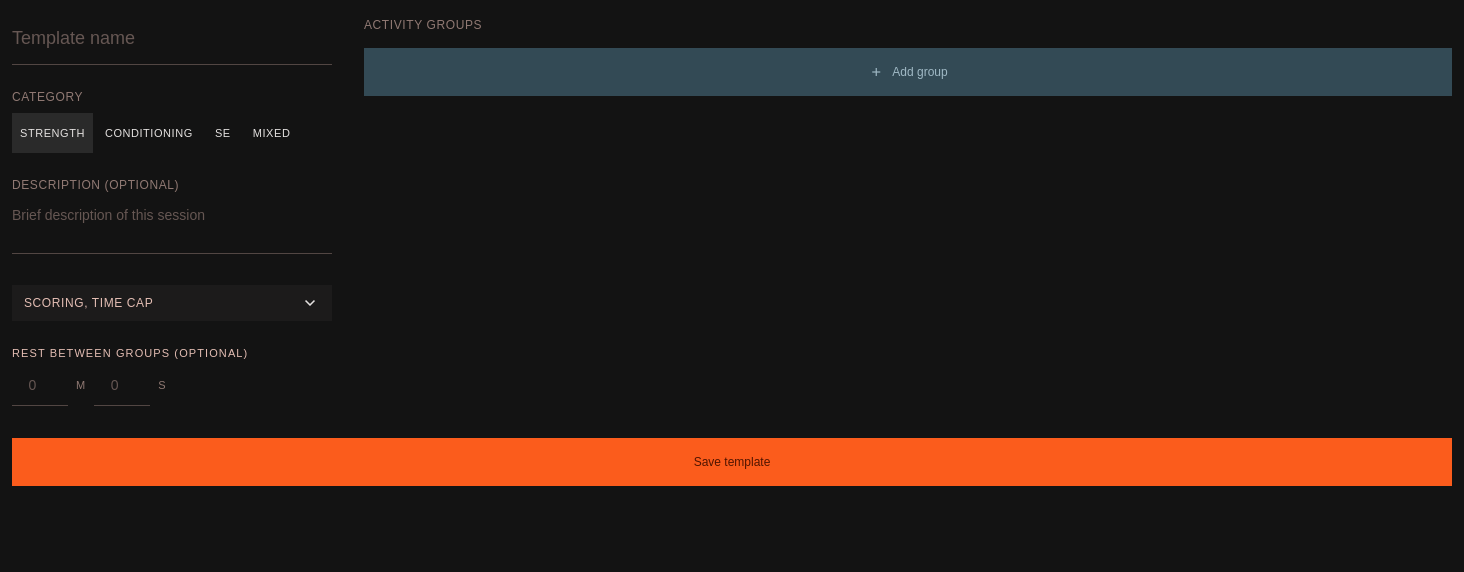
SessionTemplateForm › shows validation error when saving with empty name
Click the button "Save template": point(732, 462) [12,438,1452,486]
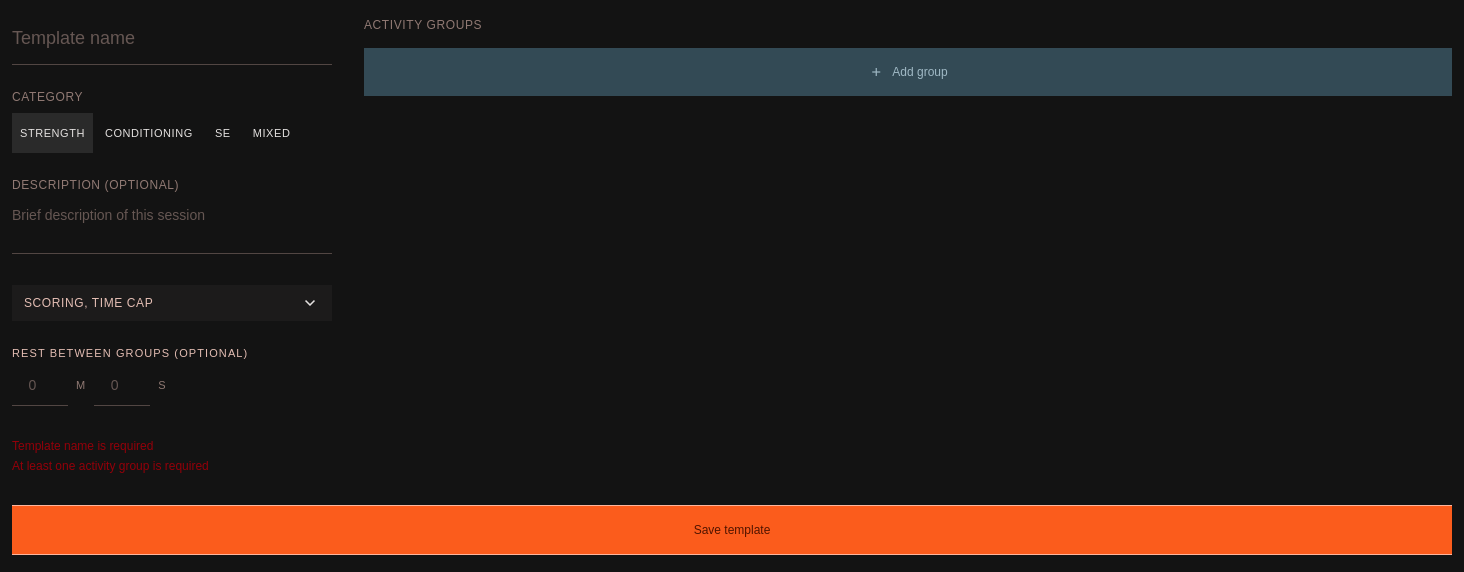
expect the text "Template name is required" is shown: met, box [12,438,153,452]
